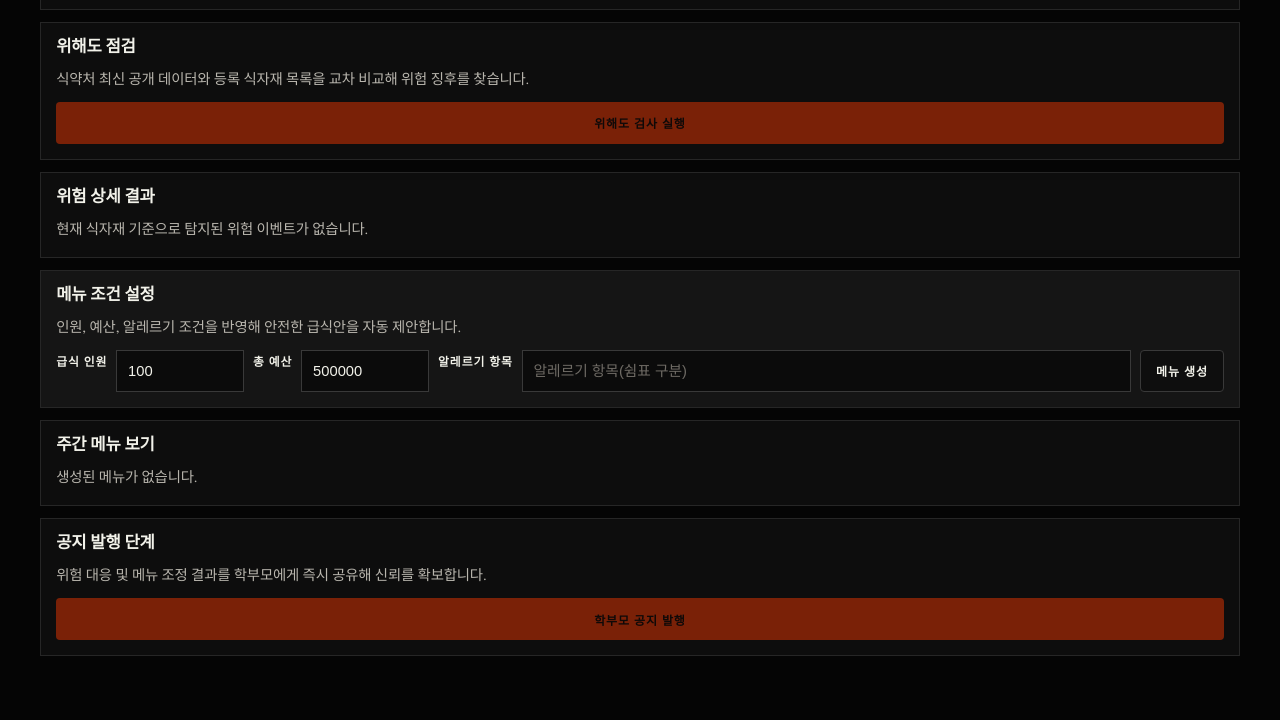
it: /nutritionist page › enables publish button after menu is generated
(page scrolled)
Check: the button "학부모 공지 발행" is disabled, box 56,598 -> 1224,640
Step 1. Click the button "메뉴 생성" → point(1182, 371), box 1140,350 -> 1224,392
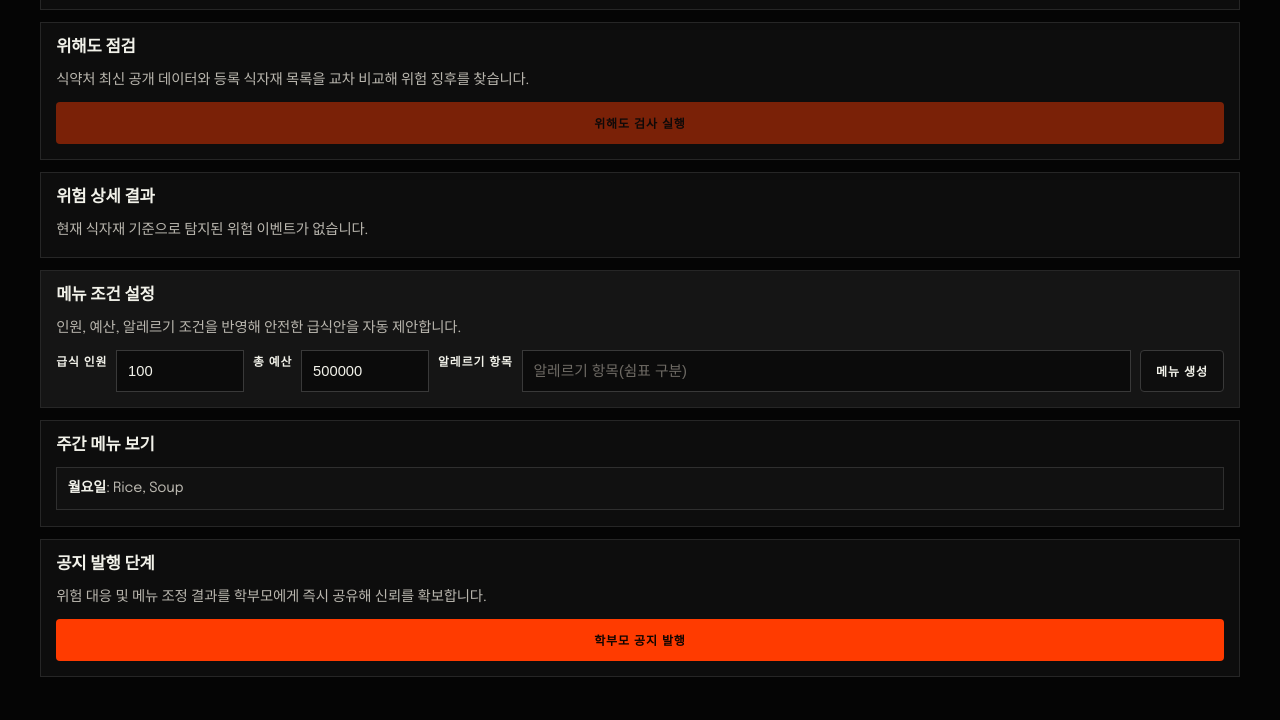
Check: the button "학부모 공지 발행" is enabled, box 56,619 -> 1224,661
